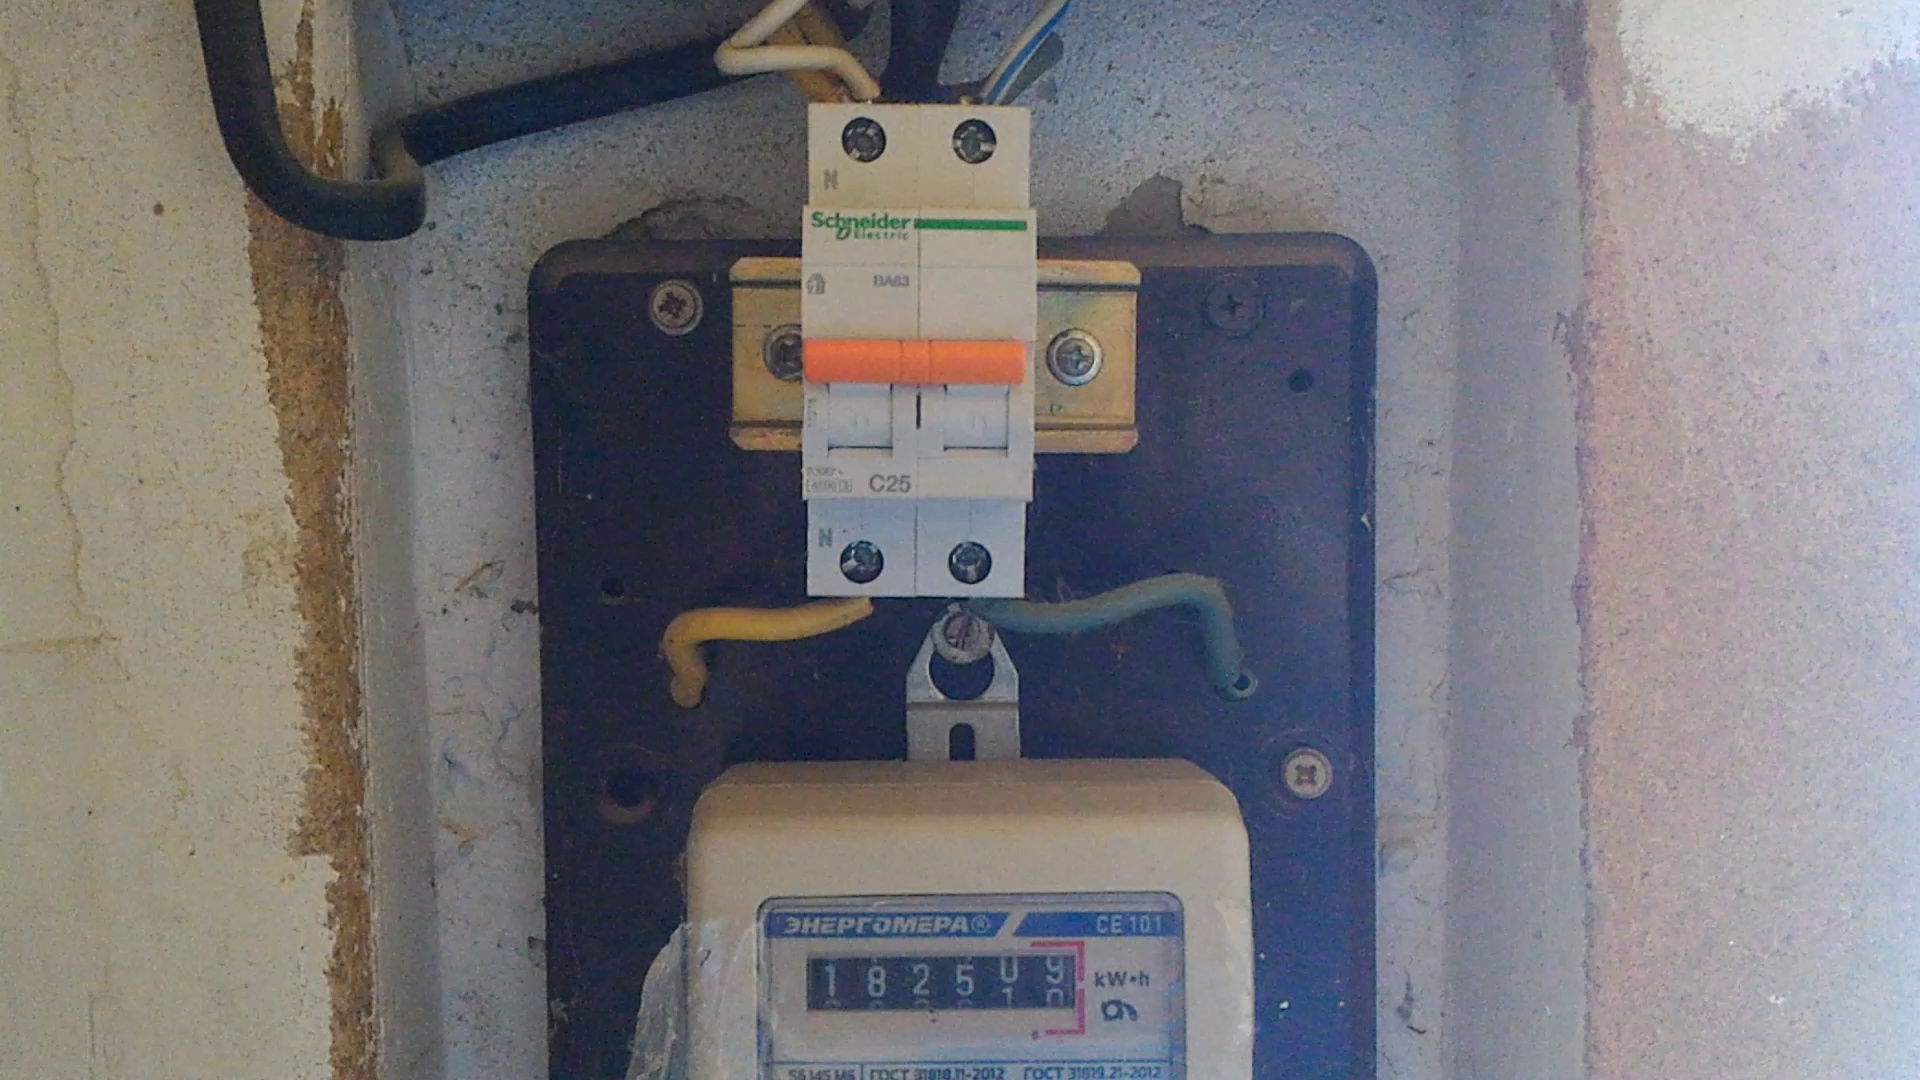counter: (687, 815, 1255, 1076)
counter_screen: (800, 948, 1083, 1014)
